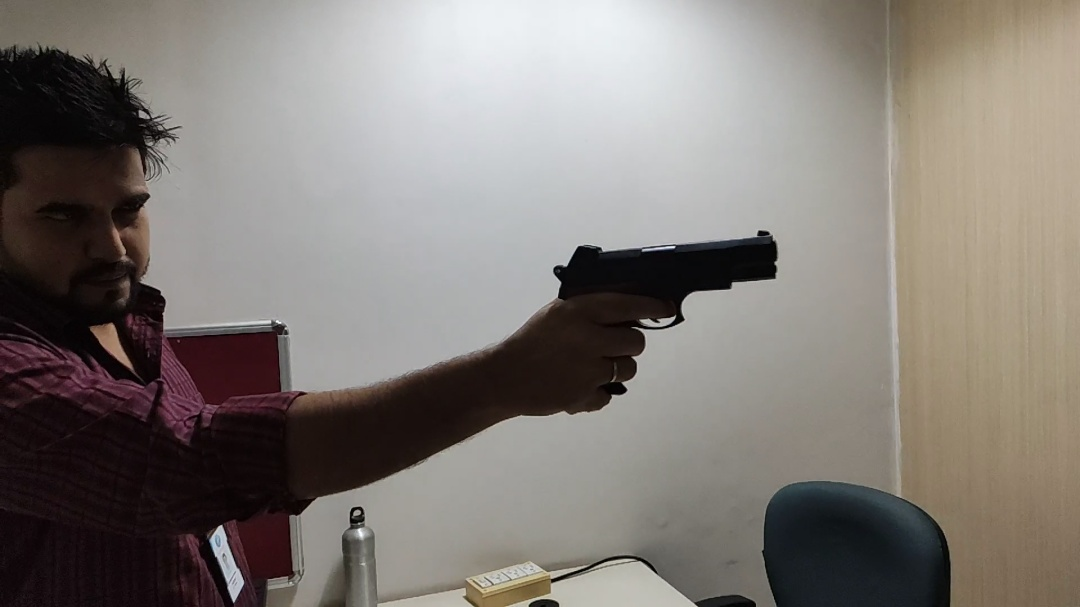gun: (551, 228, 781, 398)
